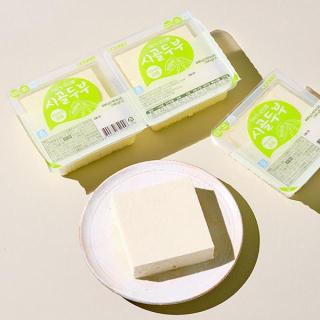Tahu: (93, 171, 239, 301)
